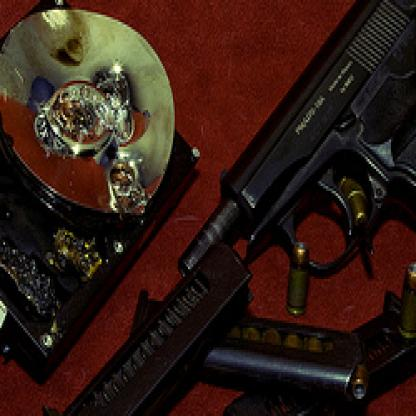gun: (173, 0, 414, 318)
